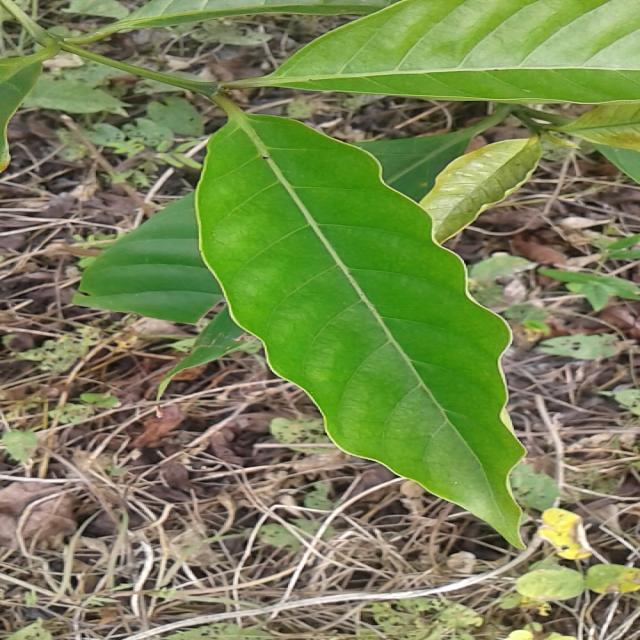Sanas: (191, 108, 553, 550)
